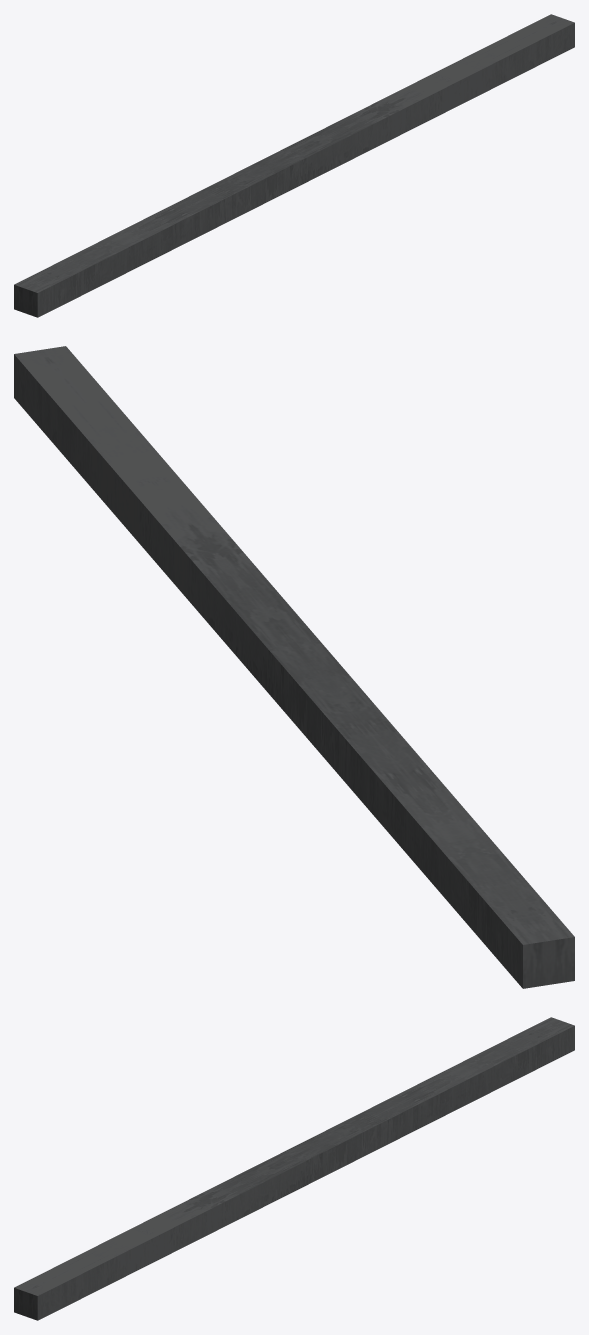
The picture shows the model from 3 angles, top to bottom: view 1: azimuth 90°, elevation 25°; view 2: azimuth 150°, elevation 25°; view 3: azimuth 270°, elevation 25°; orthographic projection. The views are drawn at different scales.
Parts seen in each view (by area): view 1: Cube039_metal3_0; view 2: Cube039_metal3_0; view 3: Cube039_metal3_0.
Boxes of the visible parts, x1,y1,x2,y2 form: Cube039_metal3_0: (14,14,574,317); Cube039_metal3_0: (14,346,574,988); Cube039_metal3_0: (14,1017,574,1320).
Bounding box in the file's own units: 1.7 × 0.07 × 1.44.
Materials: 1 (1 with a texture image).
